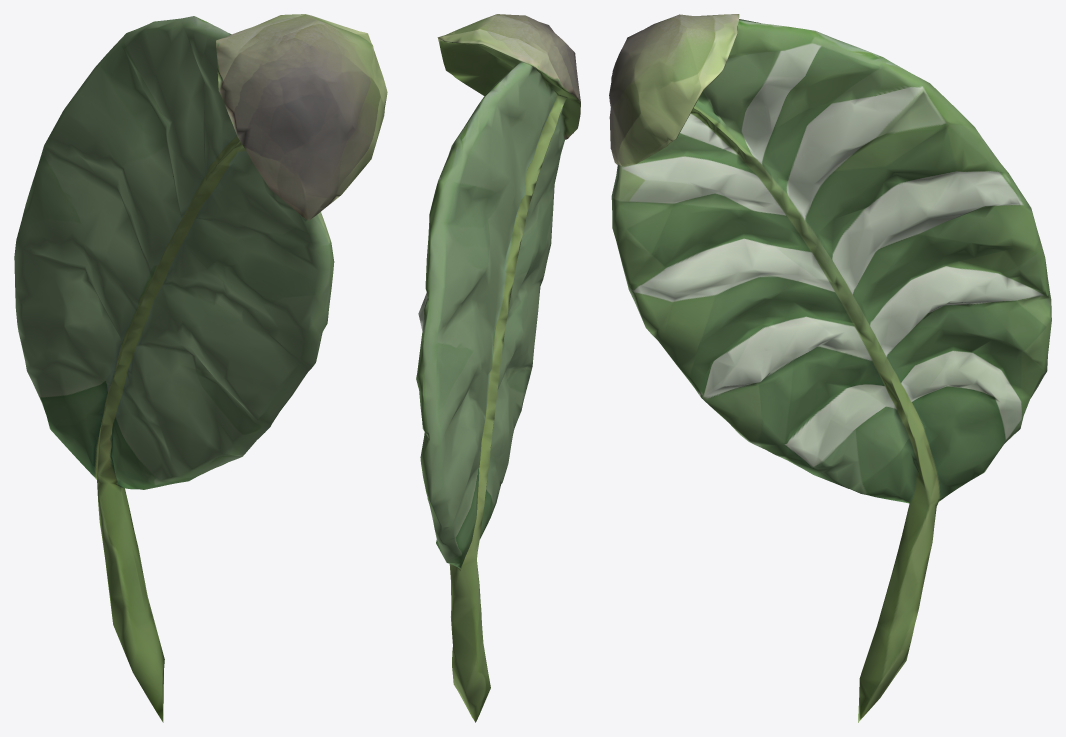
Rendered from ca_leaf_young.glb.
3 views of the same model, side by side, from view 1: azimuth 30°, elevation 25°; view 2: azimuth 150°, elevation 25°; view 3: azimuth 270°, elevation 25° (orthographic). The views are drawn at different scales.
Visible parts, largest first — view 1: tripo_node_1493a516-6c6b-4966-b1ac-d2d1ab1e91b0; view 2: tripo_node_1493a516-6c6b-4966-b1ac-d2d1ab1e91b0; view 3: tripo_node_1493a516-6c6b-4966-b1ac-d2d1ab1e91b0.
Part boxes in pixels (left/top/right/bottom): tripo_node_1493a516-6c6b-4966-b1ac-d2d1ab1e91b0: left=14, top=14, right=387, bottom=722; tripo_node_1493a516-6c6b-4966-b1ac-d2d1ab1e91b0: left=416, top=14, right=580, bottom=722; tripo_node_1493a516-6c6b-4966-b1ac-d2d1ab1e91b0: left=609, top=14, right=1051, bottom=722.
Size of the model in its own units: 0.258 by 1 by 0.5525.
1 material, 1 textured.
